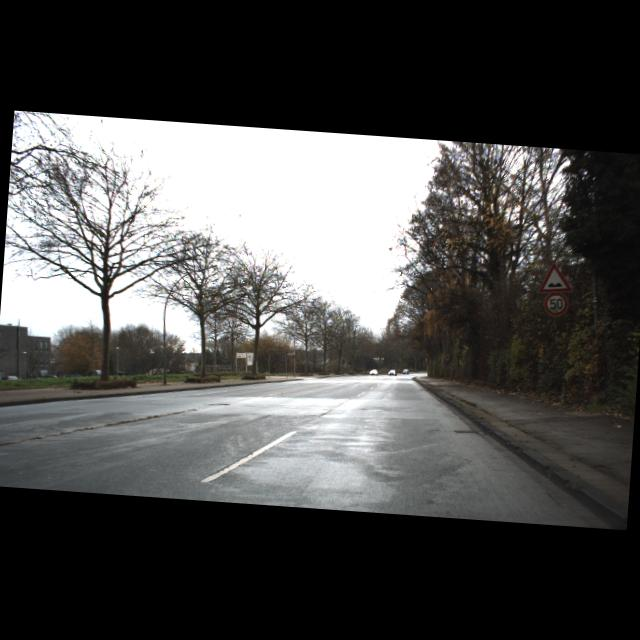danger: (538, 262, 574, 296)
prohibitory: (542, 290, 569, 317)
